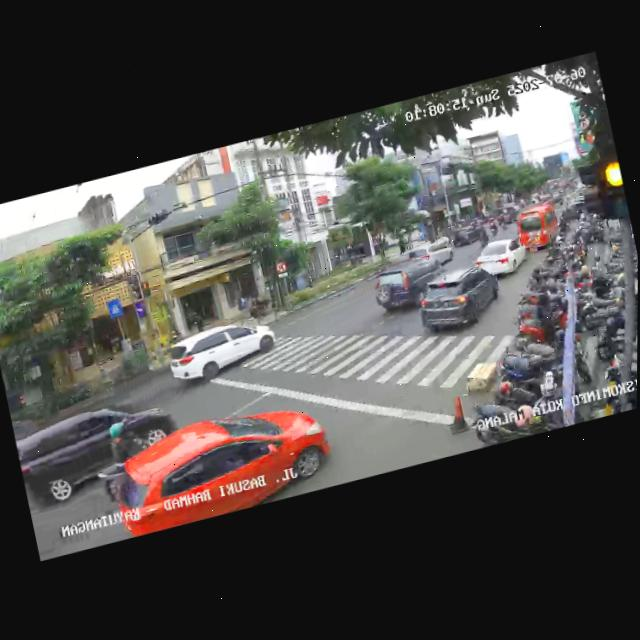car: (101, 390, 336, 540), (13, 384, 192, 520), (162, 311, 276, 392), (412, 260, 505, 340), (366, 252, 451, 323), (471, 233, 531, 284), (513, 200, 564, 255), (402, 234, 456, 276), (448, 221, 490, 251)
motorcycle: (86, 413, 166, 511)
